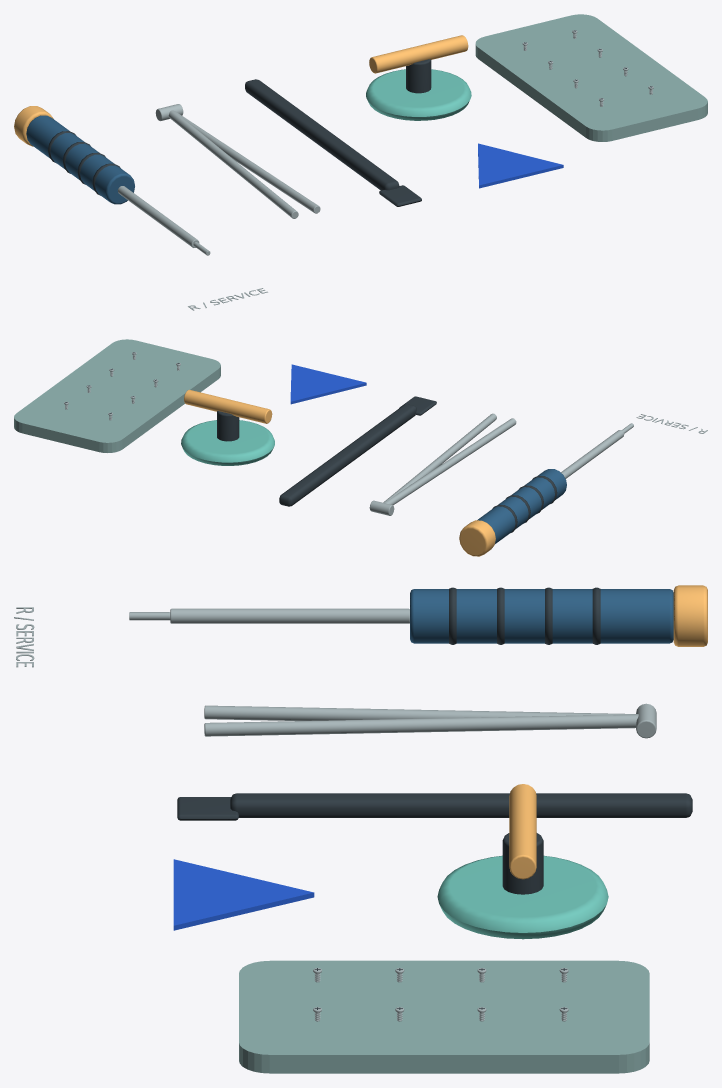
File: repair_tools.glb
The picture shows the model from 3 angles, top to bottom: view 1: azimuth 30°, elevation 25°; view 2: azimuth 150°, elevation 25°; view 3: azimuth 270°, elevation 25°; orthographic projection. The views are drawn at different scales.
Visible parts, largest first — view 1: Magnetic_screw_tray, Suction_cup, Precision_driver_handle, Nylon_spudger, Opening_pick, Suction_handle, Tweezers_arm, Tweezers_arm.001, Precision_driver_shaft, Suction_stem, Driver_rotating_cap, Spudger_flat_tip; view 2: Magnetic_screw_tray, Suction_cup, Nylon_spudger, Precision_driver_handle, Opening_pick, Suction_handle, Tweezers_arm, Driver_rotating_cap, Tweezers_arm.001, Precision_driver_shaft, Suction_stem; view 3: Magnetic_screw_tray, Precision_driver_handle, Nylon_spudger, Suction_cup, Tweezers_arm.001, Opening_pick, Tweezers_arm, Precision_driver_shaft, Suction_handle, Driver_rotating_cap, Spudger_flat_tip, Suction_stem.
Part boxes in pixels (x1,y1,x2,y2): Magnetic_screw_tray: (475,14,707,141); Suction_cup: (366,69,471,120); Precision_driver_handle: (26,115,134,204); Nylon_spudger: (245,79,399,190); Opening_pick: (478,143,563,188); Suction_handle: (369,35,468,73); Tweezers_arm: (168,110,298,218); Tweezers_arm.001: (172,110,320,213); Precision_driver_shaft: (118,186,199,247); Suction_stem: (406,59,431,93); Driver_rotating_cap: (14,106,53,146); Spudger_flat_tip: (379,185,421,206); Magnetic_screw_tray: (14,339,220,452); Suction_cup: (181,420,274,465); Nylon_spudger: (279,404,416,506); Precision_driver_handle: (477,469,566,543); Opening_pick: (290,364,366,404); Suction_handle: (184,389,272,423); Tweezers_arm: (385,418,516,505); Driver_rotating_cap: (459,520,495,556); Tweezers_arm.001: (383,413,496,502); Precision_driver_shaft: (561,430,624,478); Suction_stem: (217,411,239,441); Magnetic_screw_tray: (239,960,649,1073); Precision_driver_handle: (410,589,673,643); Nylon_spudger: (230,793,692,817); Suction_cup: (437,855,608,939); Tweezers_arm.001: (204,715,638,736); Opening_pick: (173,859,314,930); Tweezers_arm: (204,705,638,720); Precision_driver_shaft: (170,608,409,623); Suction_handle: (509,784,536,879); Driver_rotating_cap: (673,585,707,646); Spudger_flat_tip: (177,797,238,820); Suction_stem: (502,833,543,894).
Bounding box in the file's own units: 0.3218 × 0.0291 × 0.2027.
